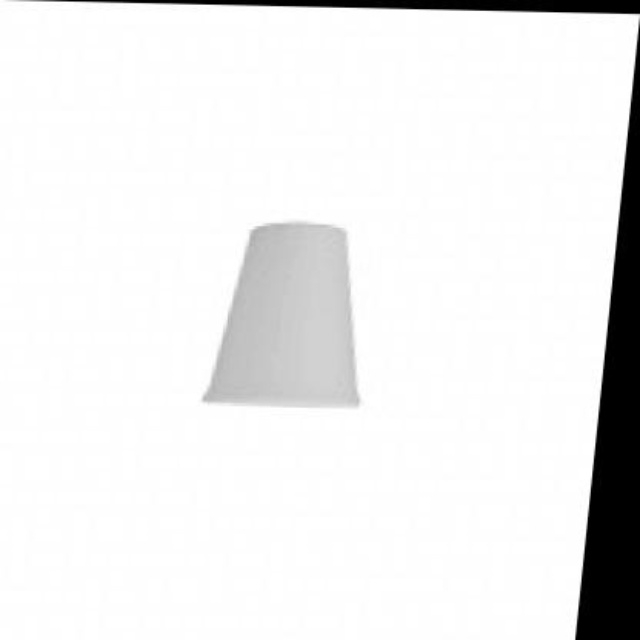trash: (203, 223, 357, 406)
